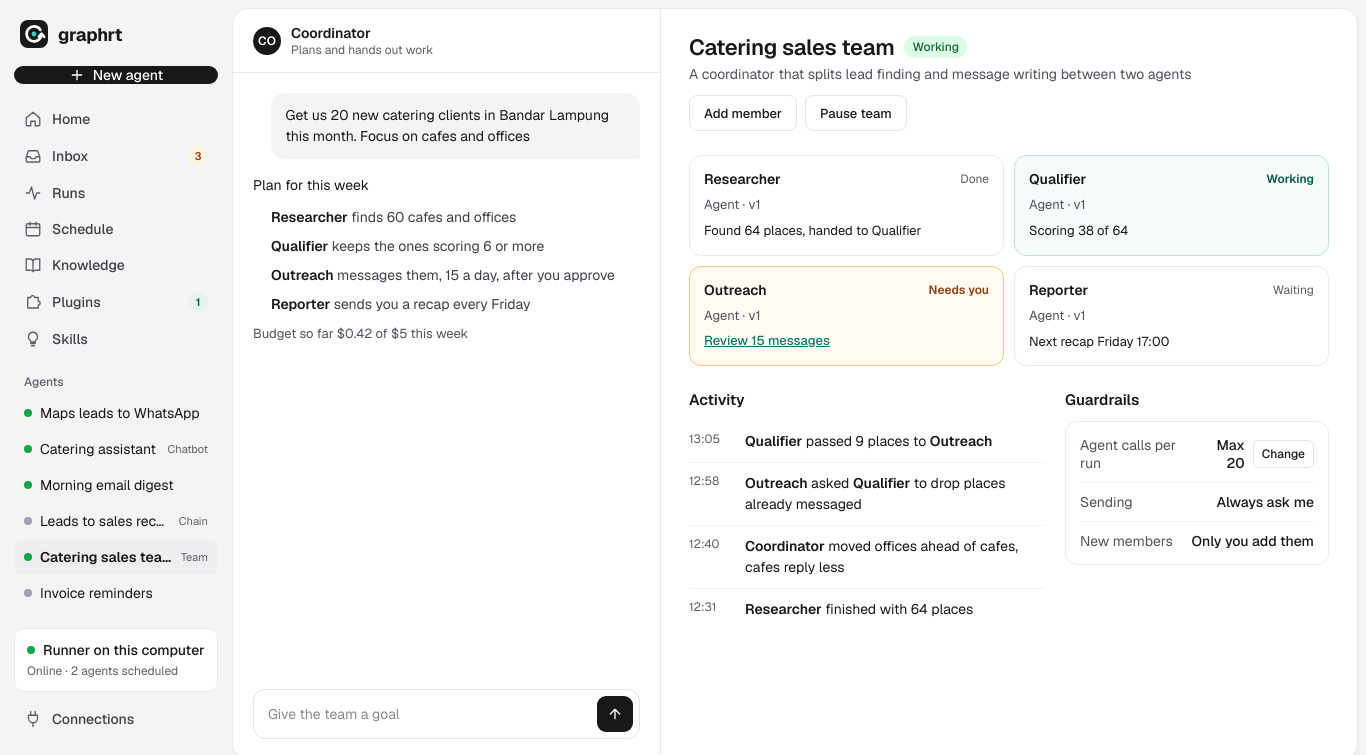
TeamPage › sends a message to the coordinator
This screenshot has width=1366, height=755.
Expected: the heading "Catering sales team" is shown, [689,33,894,61]
Step 1. Type "Skip offices this week" into the field named "Message the coordinator" → (428, 714), box [268,696,589,732]
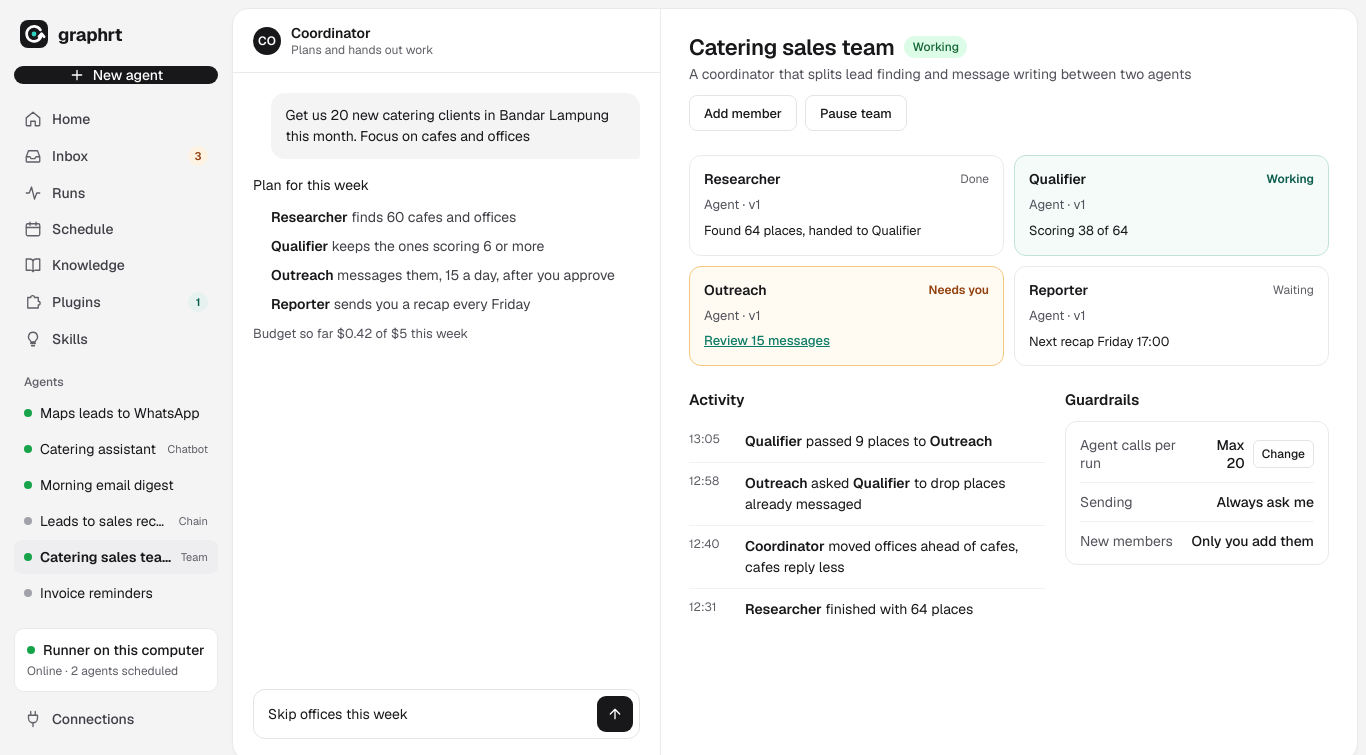
Step 2. Click the button named "Send" → (615, 714), box [597,696,633,732]
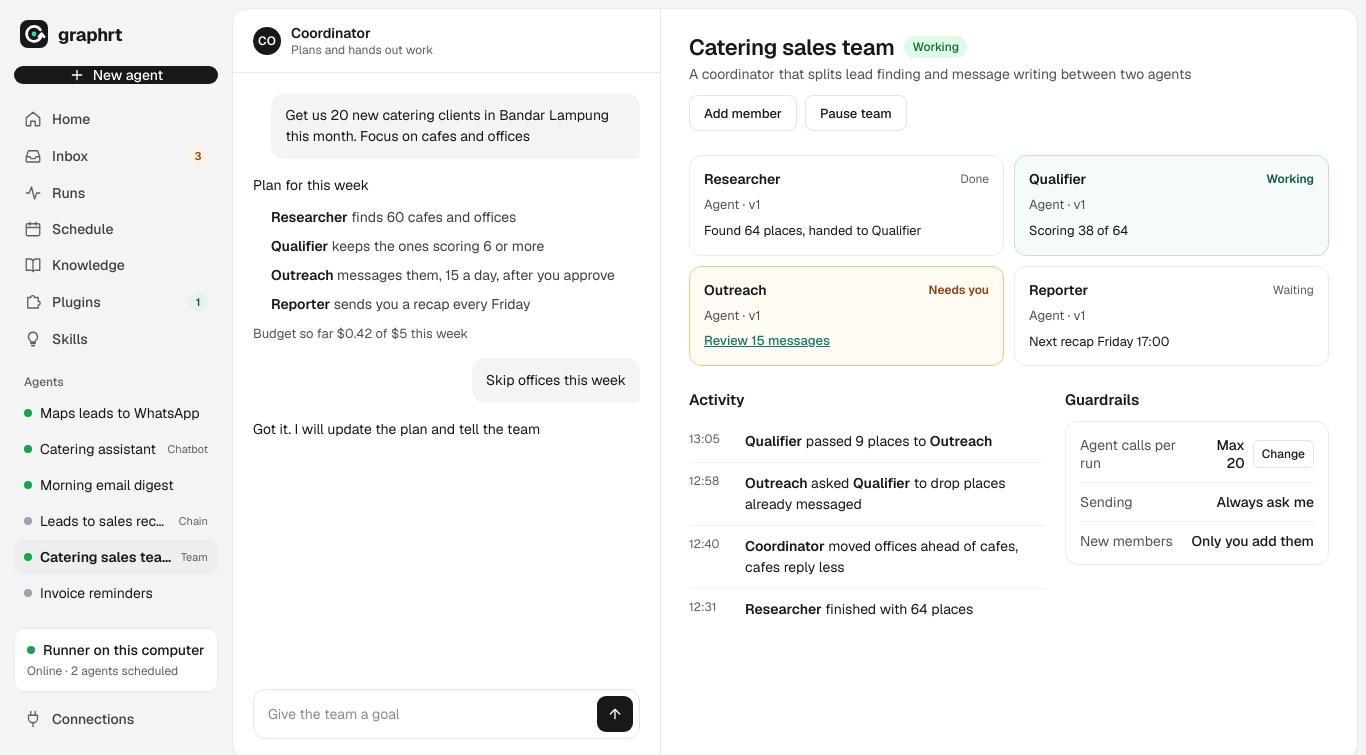
Expected: the text "Skip offices this week" is shown, [472,358,640,403]
Expected: the text "Got it. I will update the plan and tell the team" is shown, [253,420,540,438]
Expected: the field named "Message the coordinator" is empty, [268,696,589,732]
